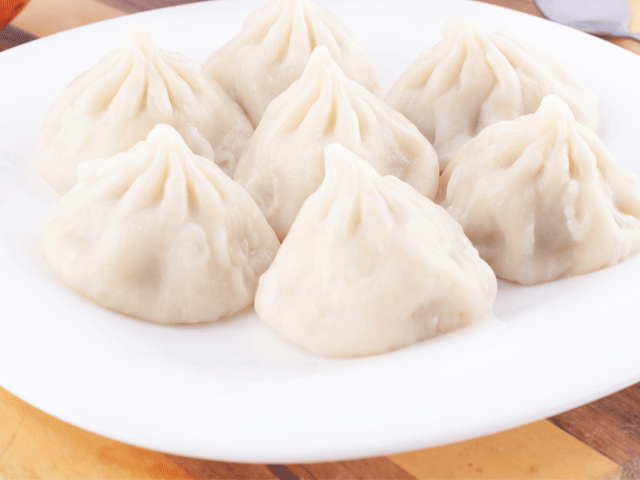modak: (273, 159, 508, 352), (42, 134, 283, 318), (242, 47, 460, 227), (458, 102, 640, 286), (33, 33, 246, 152)
